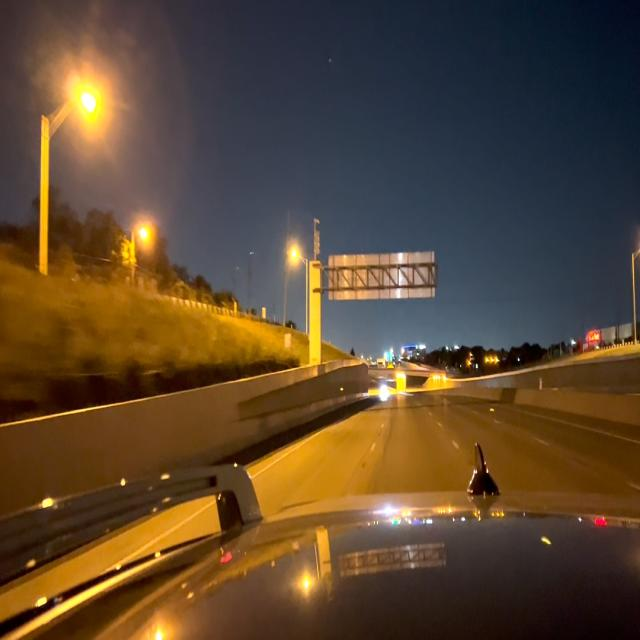back-of-sign: (329, 252, 434, 296)
